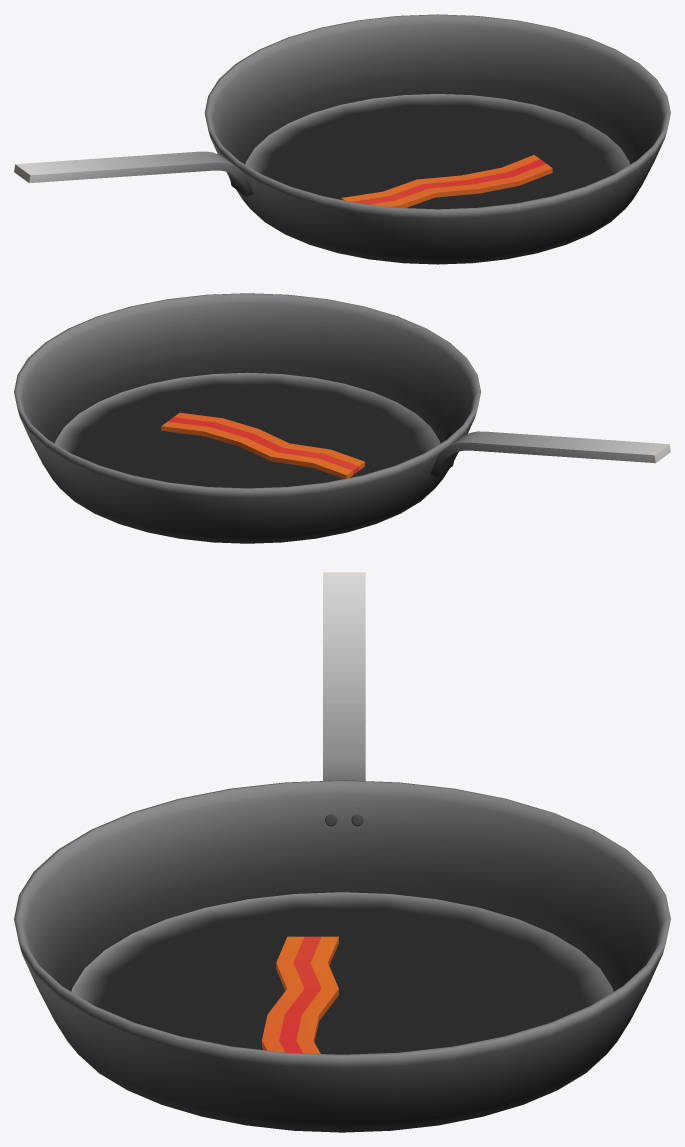
The model's file is FryingPan.FBX.
3 views of the same model, one above another, from view 1: azimuth 30°, elevation 25°; view 2: azimuth 150°, elevation 25°; view 3: azimuth 270°, elevation 25° (orthographic). The views are drawn at different scales.
Parts seen in each view (by area): view 1: Frying Pan; view 2: Frying Pan; view 3: Frying Pan.
Part boxes in pixels (left/top/right/bottom): Frying Pan: left=14, top=14, right=670, bottom=264; Frying Pan: left=14, top=293, right=670, bottom=543; Frying Pan: left=14, top=572, right=670, bottom=1132.
Bounding box in the file's own units: 180 × 31.44 × 118.
Materials: 1 (1 with a texture image).
